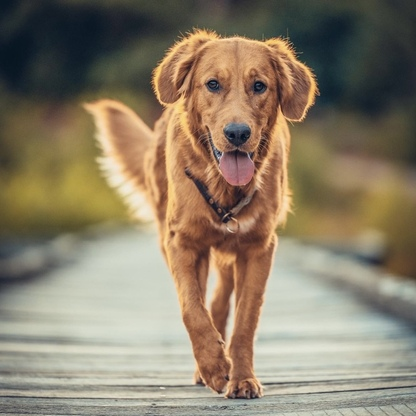labrado: (79, 23, 326, 403)
